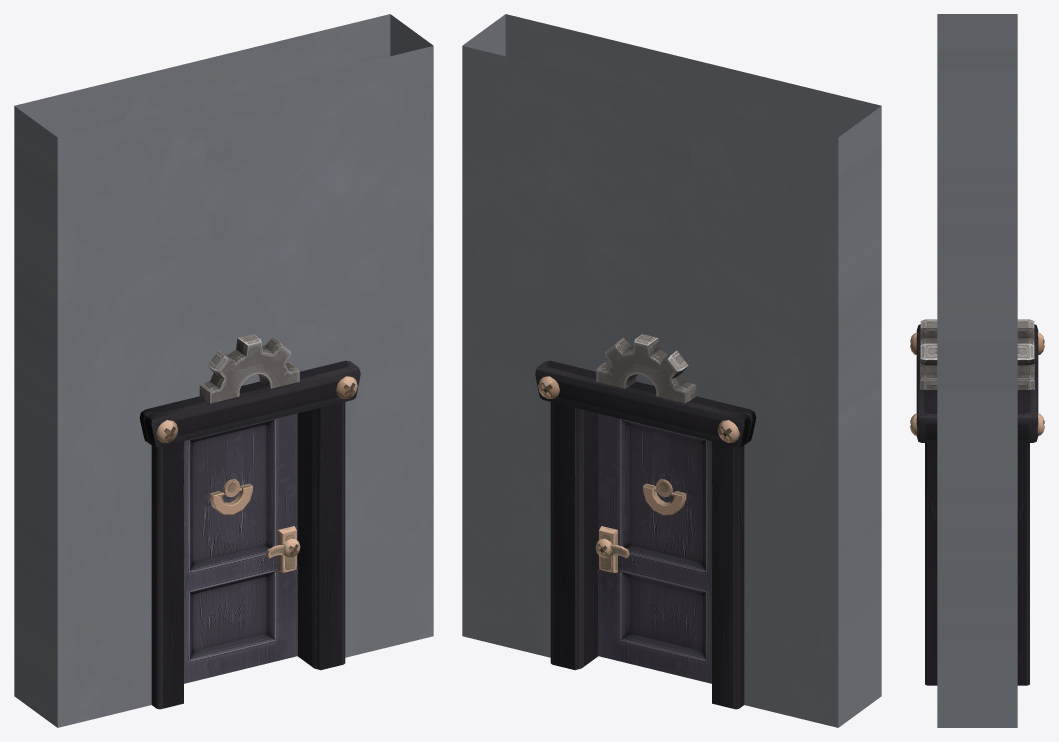
File: Ev_company_inner_shell_doorwall.fbx
3 renders of one model, left to right at view 1: azimuth 30°, elevation 25°; view 2: azimuth 150°, elevation 25°; view 3: azimuth 270°, elevation 25°, orthographic. The views are drawn at different scales.
Visible parts, largest first — view 1: Ev_company_inner_shell_door_wall, Ev_company_inner_door; view 2: Ev_company_inner_shell_door_wall, Ev_company_inner_door; view 3: Ev_company_inner_shell_door_wall.
Part boxes in pixels (left/top/right/bottom): Ev_company_inner_shell_door_wall: left=14, top=14, right=433, bottom=727; Ev_company_inner_door: left=184, top=413, right=300, bottom=683; Ev_company_inner_shell_door_wall: left=462, top=14, right=881, bottom=727; Ev_company_inner_door: left=595, top=413, right=711, bottom=683; Ev_company_inner_shell_door_wall: left=910, top=14, right=1044, bottom=727.
Size of the model in its own units: 200 by 300 by 67.25.
